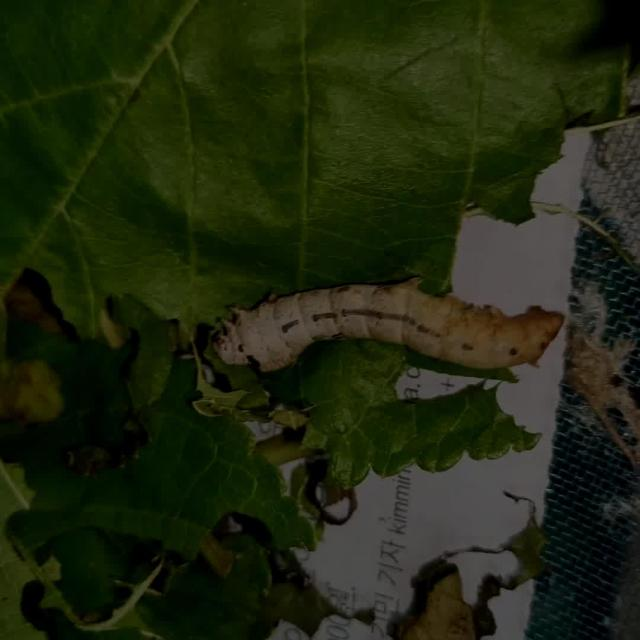Grasserie: (182, 234, 608, 452)
